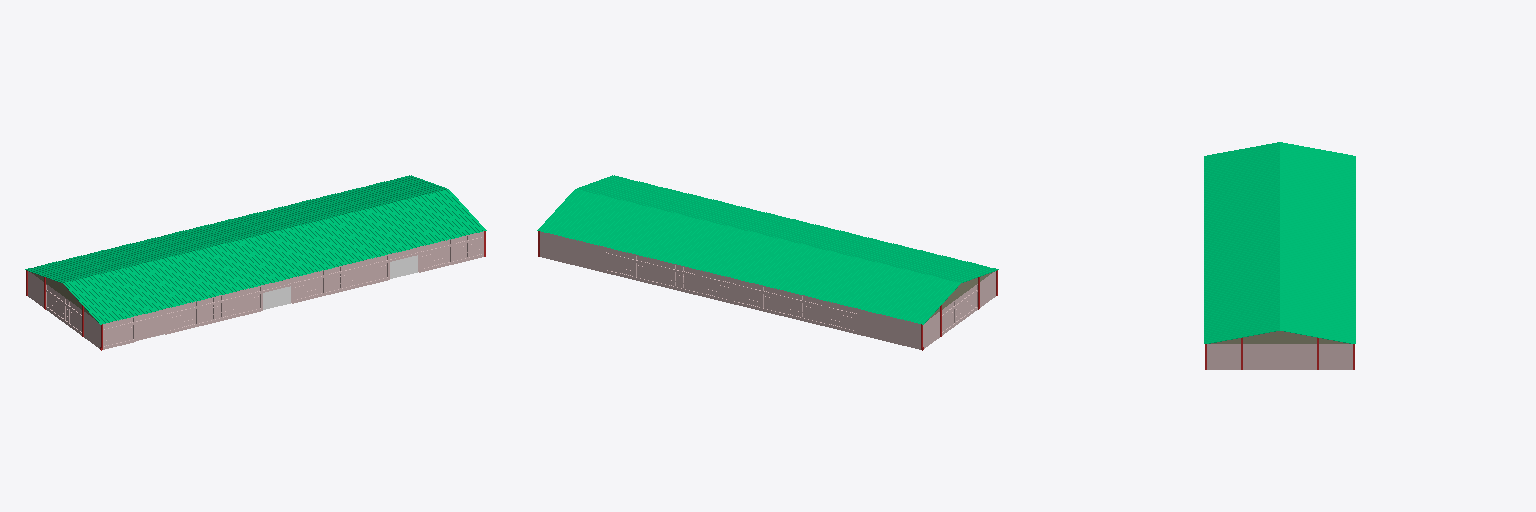
The model's file is warehouse.obj.
3 views of the same model, side by side, from view 1: azimuth 30°, elevation 25°; view 2: azimuth 150°, elevation 25°; view 3: azimuth 270°, elevation 25° (orthographic).
Visible parts, largest first — view 1: roof_leftEnd, roof_rightEnd001, roof006, roof004, roof009, roof008, roof010, roof002, roof001, roof005, roof003, roof007; view 2: roof_leftEnd, roof_rightEnd001, roof006, roof004, roof009, roof008, roof010, roof002, roof001, roof005, roof003, roof007 (+5 smaller); view 3: roof_rightEnd001, roof_leftEnd, roof009, roof007, roof006, roof004, roof002, roof008, roof005, roof001, roof010, roof003 (+4 smaller).
Part boxes in pixels (x1,y1,x2,y2): roof_leftEnd: (25, 261, 134, 324); roof_rightEnd001: (378, 175, 486, 238); roof006: (220, 214, 324, 276); roof004: (155, 230, 261, 292); roof009: (315, 191, 419, 253); roof008: (282, 199, 387, 261); roof010: (346, 183, 451, 245); roof002: (93, 245, 197, 307); roof001: (62, 253, 165, 315); roof005: (188, 222, 292, 284); roof003: (124, 238, 229, 300); roof007: (251, 207, 356, 269); roof_leftEnd: (889, 261, 998, 324); roof_rightEnd001: (537, 175, 645, 238); roof006: (699, 214, 803, 276); roof004: (762, 230, 868, 292); roof009: (604, 191, 708, 253); roof008: (636, 199, 741, 261); roof010: (572, 183, 677, 245); roof002: (826, 245, 930, 307); roof001: (858, 253, 961, 315); roof005: (731, 222, 835, 284); roof003: (794, 238, 899, 300); roof007: (667, 207, 772, 269); roof_rightEnd001: (1204, 313, 1355, 343); roof_leftEnd: (1204, 142, 1355, 171); roof009: (1204, 282, 1355, 311); roof007: (1204, 251, 1355, 280); roof006: (1204, 236, 1355, 264); roof004: (1204, 205, 1355, 233); roof002: (1204, 174, 1355, 202); roof008: (1204, 267, 1355, 295); roof005: (1204, 220, 1355, 249); roof001: (1204, 158, 1355, 187); roof010: (1204, 298, 1355, 326); roof003: (1204, 189, 1355, 218).
Size of the model in its own units: 93.01 by 9.3 by 31.55.